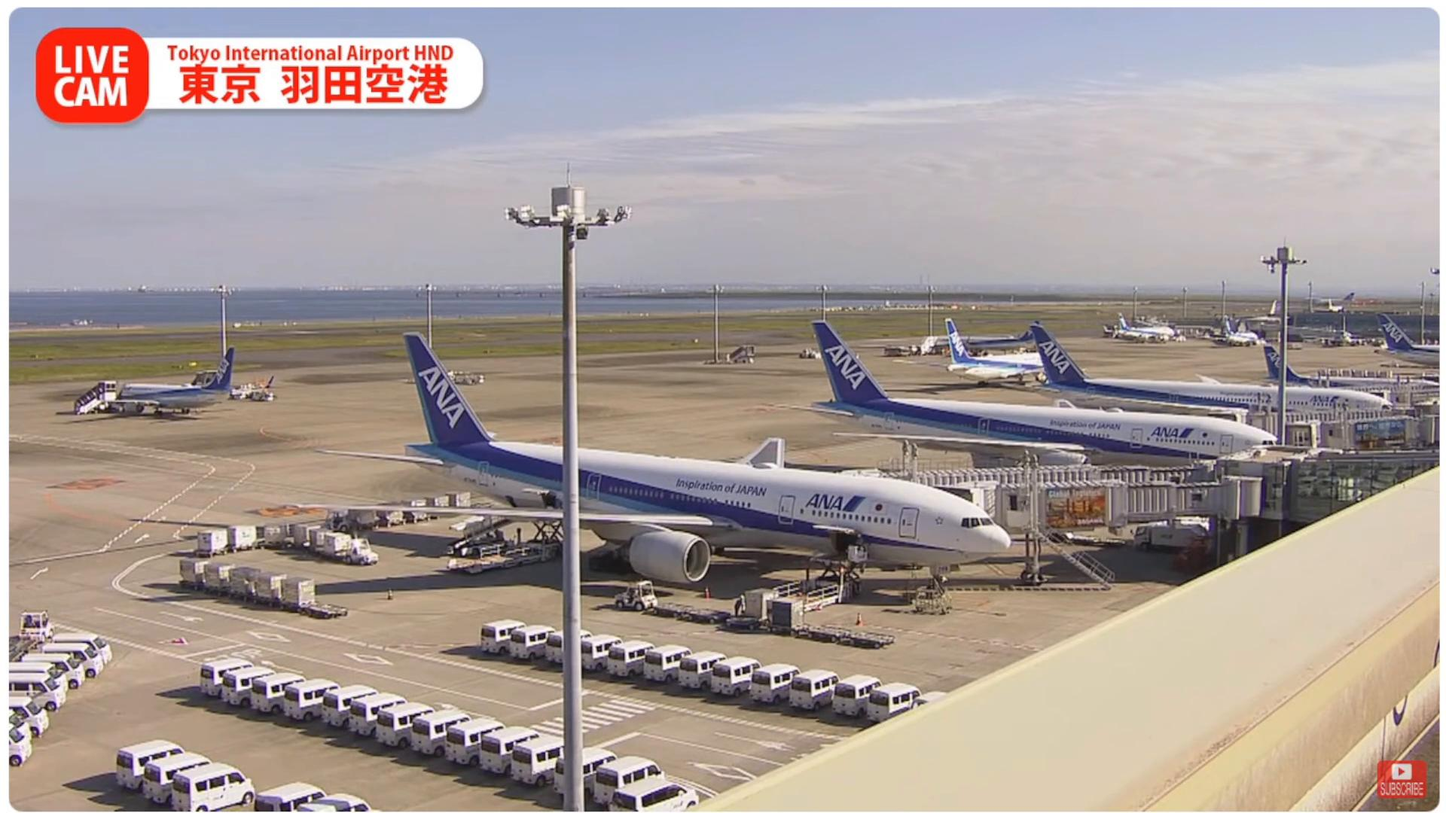Aerobridge: (956, 480, 1243, 535), (885, 461, 1213, 481)
Airplane: (290, 330, 1014, 584)
Dolly: (645, 602, 888, 654), (179, 579, 348, 613), (206, 539, 345, 562)
JCPL: (739, 534, 867, 620), (510, 493, 570, 569)
Skyloader: (442, 515, 528, 574)
Tractor: (618, 590, 660, 621), (349, 529, 370, 559)
Window: (1270, 448, 1442, 536)
